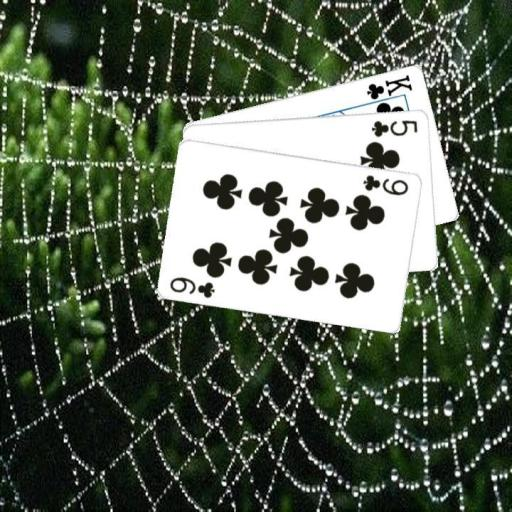5C: (369, 116, 419, 138)
9C: (166, 273, 217, 299), (360, 171, 410, 197)
KC: (362, 71, 414, 107)
